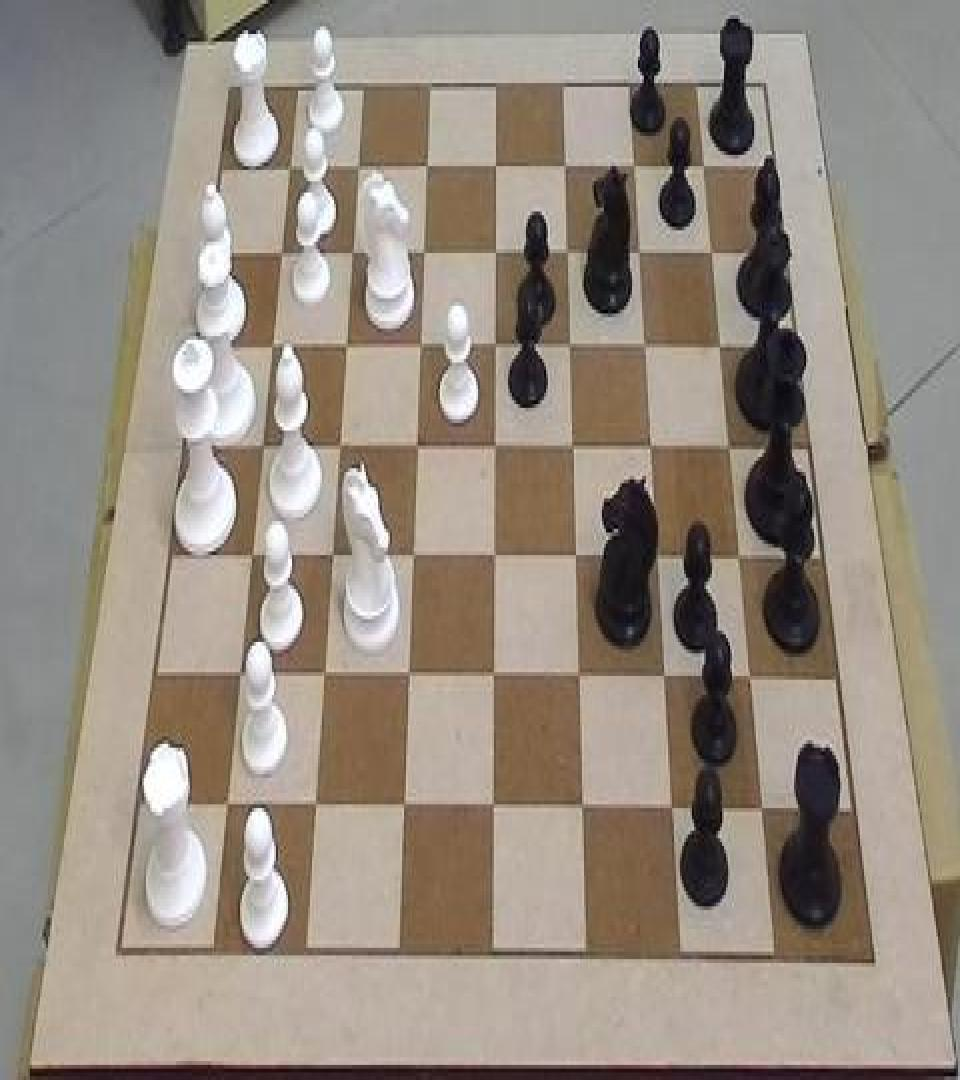xcorner: (693, 149, 713, 187), (623, 149, 643, 187), (554, 151, 574, 189), (484, 151, 504, 189), (415, 151, 435, 189), (346, 151, 366, 189), (278, 151, 298, 189), (701, 234, 721, 272), (629, 236, 649, 274), (556, 236, 576, 274), (484, 236, 504, 274), (413, 236, 433, 274), (341, 236, 361, 274), (269, 236, 289, 274), (710, 326, 730, 364), (634, 326, 654, 364), (559, 328, 579, 366), (484, 328, 504, 366), (409, 328, 429, 366), (335, 328, 355, 366), (260, 328, 280, 366), (719, 428, 739, 466), (641, 428, 661, 466), (562, 428, 582, 466), (484, 428, 504, 466), (406, 428, 426, 466), (328, 428, 348, 466), (251, 428, 271, 466), (729, 536, 749, 574), (647, 536, 667, 574), (566, 536, 586, 574), (484, 536, 504, 574), (403, 536, 423, 574), (321, 536, 341, 574), (240, 536, 260, 574), (741, 657, 761, 695), (655, 657, 675, 695), (569, 655, 589, 693), (484, 655, 504, 693), (399, 655, 419, 693), (314, 655, 334, 693), (229, 655, 249, 693), (753, 787, 773, 825), (663, 787, 683, 825), (573, 787, 593, 825), (484, 786, 504, 824), (394, 786, 414, 824), (305, 786, 325, 824), (216, 786, 236, 824)
